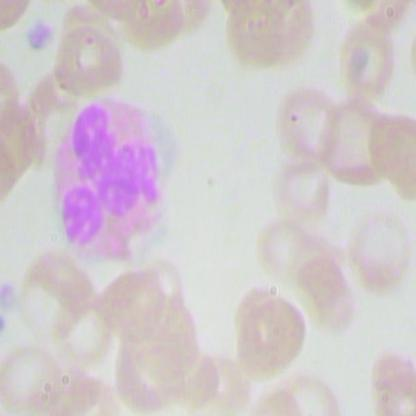Platelets: (27, 18, 53, 60), (0, 274, 21, 312), (0, 310, 11, 340)
WBC: (43, 96, 187, 264)
